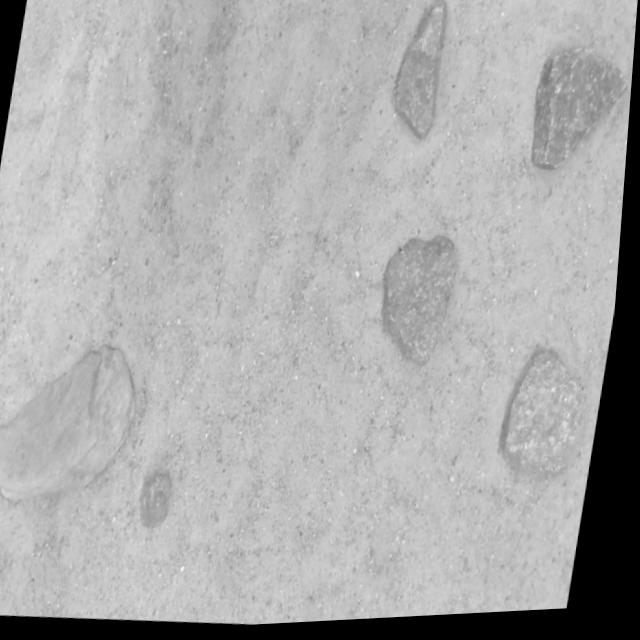rock: (0, 349, 140, 501), (534, 55, 628, 175), (512, 360, 591, 486), (387, 242, 458, 369), (398, 4, 446, 143), (147, 477, 177, 530)
